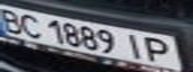1: (42, 16, 66, 44)
8: (78, 24, 100, 51), (60, 20, 81, 47)
9: (97, 26, 118, 55)
B: (0, 6, 27, 34)
C: (15, 11, 45, 39)
I: (121, 30, 148, 61)
P: (139, 35, 178, 64)
